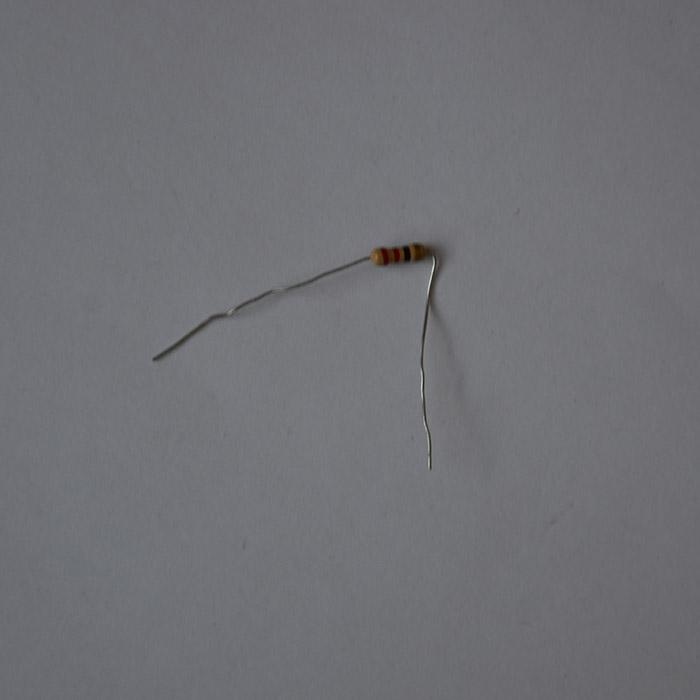resistor: (371, 242, 427, 265)
